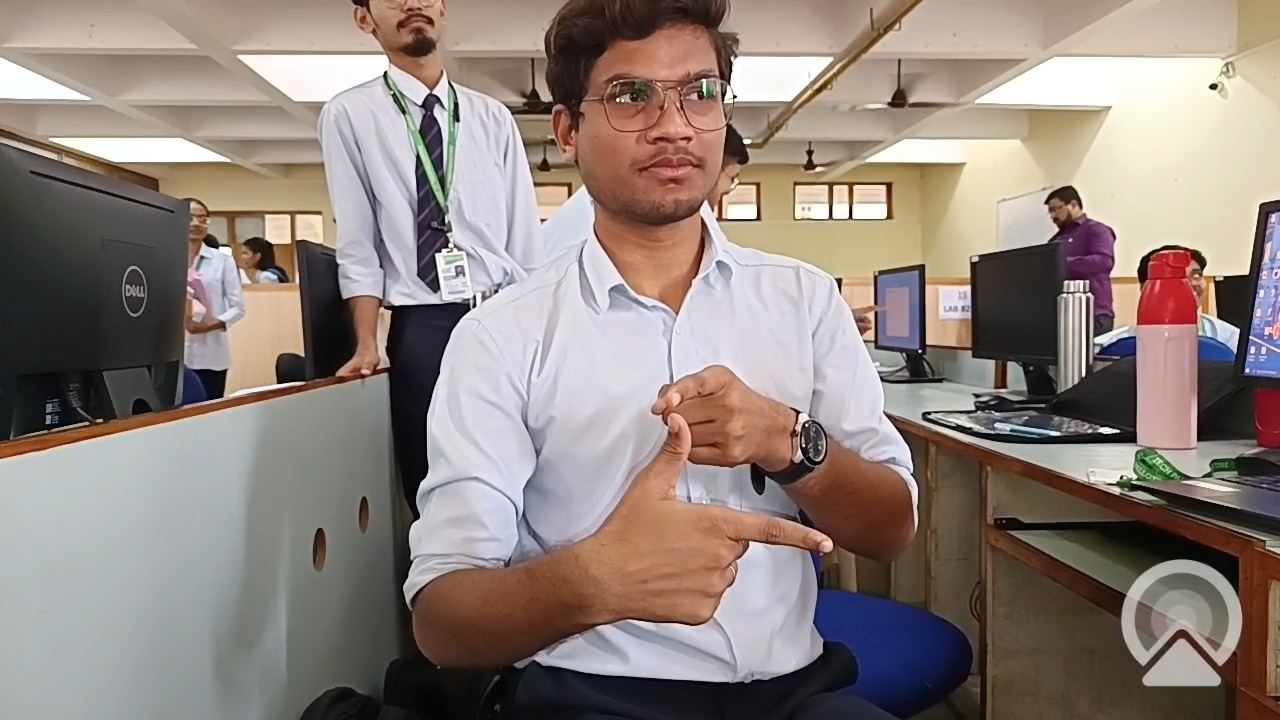J: (582, 362, 854, 656)
